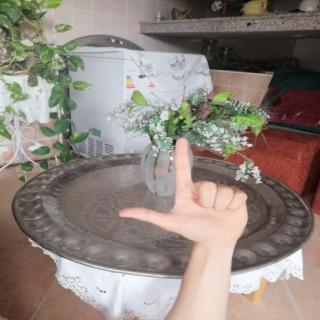LAAM: (105, 130, 258, 249)
